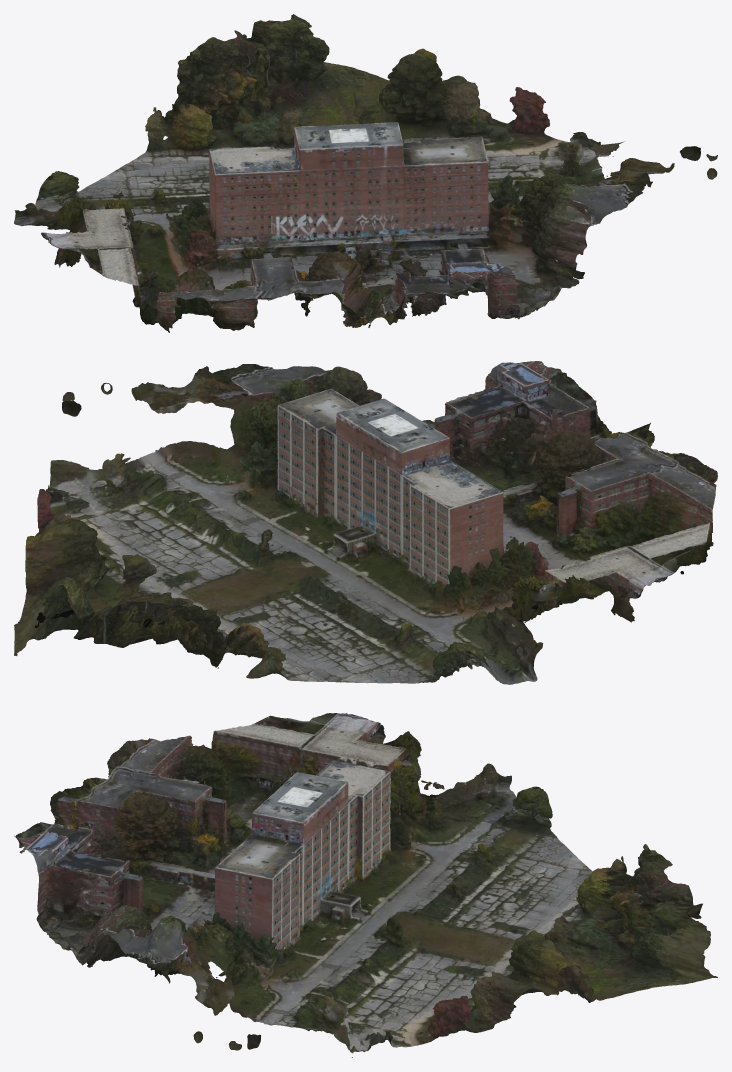
The model's file is psychiatric.glb.
3 views of the same model, one above another, from view 1: azimuth 30°, elevation 25°; view 2: azimuth 150°, elevation 25°; view 3: azimuth 270°, elevation 25° (orthographic). The views are drawn at different scales.
Parts seen in each view (by area): view 1: kings build_kings_build_0; view 2: kings build_kings_build_0; view 3: kings build_kings_build_0.
Boxes of the visible parts, bbox=[...] form: kings build_kings_build_0: bbox=[14, 14, 717, 332]; kings build_kings_build_0: bbox=[14, 361, 717, 684]; kings build_kings_build_0: bbox=[14, 713, 717, 1057].
Size of the model in its own units: 2931 by 527 by 2804.
Materials: 1 (1 with a texture image).
